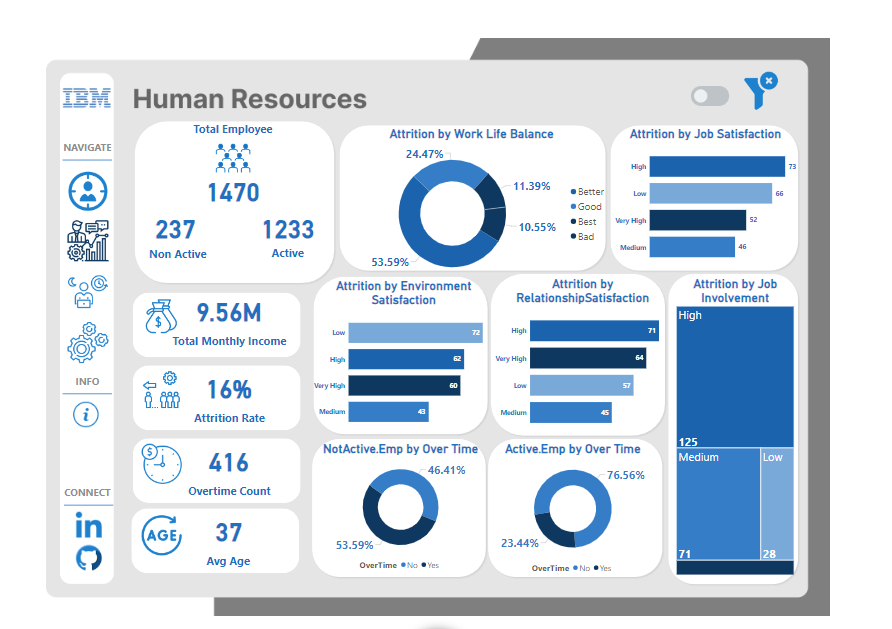

The dashboard page shown, as its layout file describes it:
{"tool":"powerbi","page":{"name":"Satisfaction & Performance","canvas":[1900,1400],"ordinal":1},"visuals":[{"type":"group","id":"g1","title":"Group 1","box":[210,198,494,404],"z":0},{"type":"shape","box":[210,198.5,493.6,402.5],"z":0,"group":"g1"},{"type":"shape","box":[707.5,207.5,655,362.5],"z":0,"group":"g8"},{"type":"shape","box":[1362.5,207.5,465,362.5],"z":0,"group":"g6"},{"type":"shape","box":[1072.5,567.8,432.5,402.5],"z":0,"group":"g10"},{"type":"shape","box":[1502.5,567.8,325,762.5],"z":0,"group":"g11"},{"type":"shape","box":[642.5,573.3,432.5,392.5],"z":0,"group":"g7"},{"type":"shape","box":[210,615.6,407.5,157.5],"z":0,"group":"g2"},{"type":"shape","box":[210,792.5,407.5,157.5],"z":0,"group":"g3"},{"type":"shape","box":[638.7,967.5,431.3,345],"z":0,"group":"g12"},{"type":"shape","box":[1067.5,967.5,432.5,345],"z":0,"group":"g13"},{"type":"shape","box":[210,968.4,407.5,157.5],"z":0,"group":"g4"},{"type":"shape","box":[40,1121,120,25],"z":0,"group":"g9"},{"type":"shape","box":[208,1140.5,407.5,157.5],"z":0,"group":"g5"},{"type":"donutChart","title":"Attrition by Work Life Balance","fields":{"Y":["Dax_Measure.# Attrition employees"],"Category":["Employee (Fact).WorkLifeBalance"]},"box":[697.5,212.5,670,390],"z":1000,"group":"g8"},{"type":"clusteredBarChart","title":"Attrition by Job Satisfaction","fields":{"Y":["Dax_Measure.# Attrition employees"],"Category":["Employee (Fact).JobSatisfaction"]},"box":[1370.9,214.3,450.3,351.2],"z":1000,"group":"g6"},{"type":"card","title":"Employee","fields":{"Values":["Dax_Measure.Total Employees"]},"box":[367.9,318,171.7,98],"z":1000,"group":"g1"},{"type":"clusteredBarChart","title":"Attrition by RelationshipSatisfaction","fields":{"Y":["Dax_Measure.# Attrition employees"],"Category":["Employee (Fact).RelationshipSatisfaction"]},"box":[1081.3,578.3,435,390],"z":1000,"group":"g10"},{"type":"clusteredBarChart","title":"Attrition by Environment Satisfaction","fields":{"Y":["Dax_Measure.# Attrition employees"],"Category":["Employee (Fact).EnvironmentSatisfaction"]},"box":[643.7,582.6,447.5,380],"z":1000,"group":"g7"},{"type":"group","id":"g2","title":"Group 2","box":[210,612.5,407.5,160.6],"z":1000},{"type":"card","fields":{"Values":["Dax_Measure.Total Monthly Income"]},"box":[316.8,612.5,252.5,87.5],"z":1000,"group":"g2"},{"type":"card","fields":{"Values":["Dax_Measure.Attrition Rate"]},"box":[316.8,799.7,252.5,87.5],"z":1000,"group":"g3"},{"type":"card","fields":{"Values":["Dax_Measure.NoEmployees Working Overtime"]},"box":[316.8,975.6,252.5,87.5],"z":1000,"group":"g4"},{"type":"donutChart","title":"NotActive.Emp by Over Time","fields":{"Y":["Dax_Measure.# Attrition employees"],"Series":["Employee (Fact).OverTime"]},"box":[642.5,976.3,432.5,322.5],"z":1000,"group":"g12"},{"type":"textbox","box":[35,1081,127.5,60],"z":1000,"group":"g9"},{"type":"card","fields":{"Values":["Dax_Measure.JobSatisfaction"]},"box":[317.1,1147.5,252,87.5],"z":1000,"group":"g5"},{"type":"card","fields":{"Values":["Dax_Measure.# Current employees"]},"box":[498.6,408.5,171.7,98],"z":2000,"group":"g1"},{"type":"image","box":[234.2,622.5,92.5,102.5],"z":2000,"group":"g2"},{"type":"textbox","box":[281.8,894.7,322.5,47.5],"z":2000,"group":"g3"},{"type":"textbox","box":[281.8,1070.6,322.5,47.5],"z":2000,"group":"g4"},{"type":"image","box":[40.6,1144.4,120,72.5],"z":2000,"group":"g9"},{"type":"textbox","box":[281.8,1242.7,322.5,47.5],"z":2000,"group":"g5"},{"type":"card","fields":{"Values":["Dax_Measure.# Attrition employees"]},"box":[247.2,408.5,132.8,98],"z":3000,"group":"g1"},{"type":"textbox","box":[281.8,707.5,322.5,47.5],"z":3000,"group":"g2"},{"type":"group","id":"g3","title":"Group 3","box":[210,792.5,407.5,157.5],"z":3000},{"type":"image","box":[227.9,800,105,105],"z":3000,"group":"g3"},{"type":"image","box":[225,972.5,107.5,117.5],"z":3000,"group":"g4"},{"type":"image","box":[227.5,1147.5,107.5,117.5],"z":3000,"group":"g5"},{"type":"image","box":[40.6,1224.4,120,72.5],"z":3000,"group":"g9"},{"type":"textbox","box":[321,198,265.6,70],"z":4000,"group":"g1"},{"type":"group","id":"g4","title":"Group 4","box":[210,968.4,407.5,157.5],"z":4000},{"type":"image","box":[406.8,242,93.8,102],"z":5000,"group":"g1"},{"type":"group","id":"g5","title":"Group 5","box":[208,1140.5,407.5,157.5],"z":5000},{"type":"group","id":"g6","title":"Group 6","box":[1362.5,207.5,465,362.5],"z":6000},{"type":"textbox","box":[241.9,500.5,159.4,70],"z":6000,"group":"g1"},{"type":"treemap","title":"Attrition by Job Involvement","fields":{"Values":["Dax_Measure.# Attrition employees"],"Group":["Employee (Fact).JobInvolvement"]},"box":[1521.3,578.3,295,730],"z":6000,"group":"g11"},{"type":"textbox","box":[521.6,497.5,131,70],"z":7000,"group":"g1"},{"type":"group","id":"g7","title":"Group 7","box":[642.5,573.3,448.8,392.5],"z":7000},{"type":"group","id":"g8","title":"Group 8","box":[697.5,207.5,670,395],"z":8000},{"type":"image","box":[36,315.3,130,110],"z":9000},{"type":"image","box":[36,560.1,130,110],"z":10000},{"type":"textbox","box":[35,244,127.5,60],"z":11000},{"type":"shape","box":[40,284,120,25],"z":12000},{"type":"image","box":[36,682.5,130,110],"z":13000},{"type":"shape","box":[40,851,120,25],"z":14000},{"type":"textbox","box":[35,811,127.5,60],"z":15000},{"type":"image","box":[37.5,877.5,120,72],"z":16000},{"type":"group","id":"g9","title":"Group 11","box":[35,1081,127.5,215.9],"z":19500},{"type":"image","box":[36,437.5,130,110],"z":21000},{"type":"image","box":[1662.5,77.5,140,102.5],"z":22000},{"type":"group","id":"g10","title":"Group 7","box":[1072.5,567.8,443.8,402.5],"z":27000},{"type":"group","id":"g11","title":"Group 9","box":[1502.5,567.8,325,762.5],"z":28000},{"type":"group","id":"g12","title":"Group 7","box":[638.7,967.5,436.3,345],"z":29000},{"type":"group","id":"g13","title":"Group 7","box":[1067.5,967.5,432.5,345],"z":30000},{"type":"donutChart","title":"Active.Emp by Over Time","fields":{"Series":["Employee (Fact).OverTime"],"Y":["Dax_Measure.# Current employees"]},"box":[1062.5,975,427.5,330],"z":30500},{"type":"image","box":[1552.5,65,112.5,147.5],"z":31500}]}

Visuals, with their boxes on the page's 1900x1400 design canvas (x1, y1, x2, y2). These are canvas units, not pixel positions in the 892x629 screenshot, which may show the page scaled, cropped or inside an application window:
"Group 1" group: 210:198:704:602
shape: 210:198:704:601
shape: 708:208:1362:570
shape: 1362:208:1828:570
shape: 1072:568:1505:970
shape: 1502:568:1828:1330
shape: 642:573:1075:966
shape: 210:616:618:773
shape: 210:792:618:950
shape: 639:968:1070:1312
shape: 1068:968:1500:1312
shape: 210:968:618:1126
shape: 40:1121:160:1146
shape: 208:1140:616:1298
"Attrition by Work Life Balance" donutChart: 698:212:1368:602
"Attrition by Job Satisfaction" clusteredBarChart: 1371:214:1821:566
"Employee" card: 368:318:540:416
"Attrition by RelationshipSatisfaction" clusteredBarChart: 1081:578:1516:968
"Attrition by Environment Satisfaction" clusteredBarChart: 644:583:1091:963
"Group 2" group: 210:612:618:773
card - Dax_Measure.Total Monthly Income: 317:612:569:700
card - Dax_Measure.Attrition Rate: 317:800:569:887
card - Dax_Measure.NoEmployees Working Overtime: 317:976:569:1063
"NotActive.Emp by Over Time" donutChart: 642:976:1075:1299
textbox: 35:1081:162:1141
card - Dax_Measure.JobSatisfaction: 317:1148:569:1235
card - Dax_Measure.# Current employees: 499:408:670:506
image: 234:622:327:725
textbox: 282:895:604:942
textbox: 282:1071:604:1118
image: 41:1144:161:1217
textbox: 282:1243:604:1290
card - Dax_Measure.# Attrition employees: 247:408:380:506
textbox: 282:708:604:755
"Group 3" group: 210:792:618:950
image: 228:800:333:905
image: 225:972:332:1090
image: 228:1148:335:1265
image: 41:1224:161:1297
textbox: 321:198:587:268
"Group 4" group: 210:968:618:1126
image: 407:242:501:344
"Group 5" group: 208:1140:616:1298
"Group 6" group: 1362:208:1828:570
textbox: 242:500:401:570
"Attrition by Job Involvement" treemap: 1521:578:1816:1308
textbox: 522:498:653:568
"Group 7" group: 642:573:1091:966
"Group 8" group: 698:208:1368:602
image: 36:315:166:425
image: 36:560:166:670
textbox: 35:244:162:304
shape: 40:284:160:309
image: 36:682:166:792
shape: 40:851:160:876
textbox: 35:811:162:871
image: 38:878:158:950
"Group 11" group: 35:1081:162:1297
image: 36:438:166:548
image: 1662:78:1802:180
"Group 7" group: 1072:568:1516:970
"Group 9" group: 1502:568:1828:1330
"Group 7" group: 639:968:1075:1312
"Group 7" group: 1068:968:1500:1312
"Active.Emp by Over Time" donutChart: 1062:975:1490:1305
image: 1552:65:1665:212
